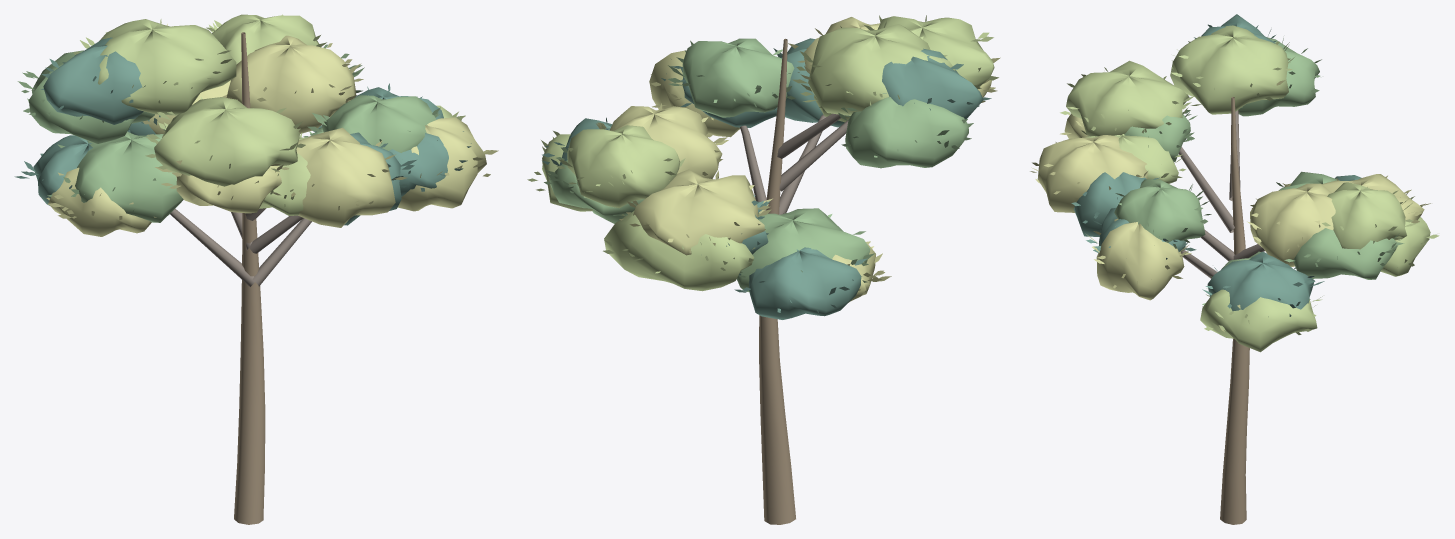
The model's file is birch_airy.glb.
3 views of the same model, side by side, from view 1: azimuth 30°, elevation 25°; view 2: azimuth 150°, elevation 25°; view 3: azimuth 270°, elevation 25° (orthographic). The views are drawn at different scales.
Parts seen in each view (by area): view 1: birch_airy; view 2: birch_airy; view 3: birch_airy.
Part boxes in pixels (x1,y1,x2,y2): birch_airy: [14, 14, 498, 524]; birch_airy: [527, 15, 1000, 524]; birch_airy: [1030, 14, 1439, 524].
Bounding box in the file's own units: 7 × 7.92 × 6.68.
